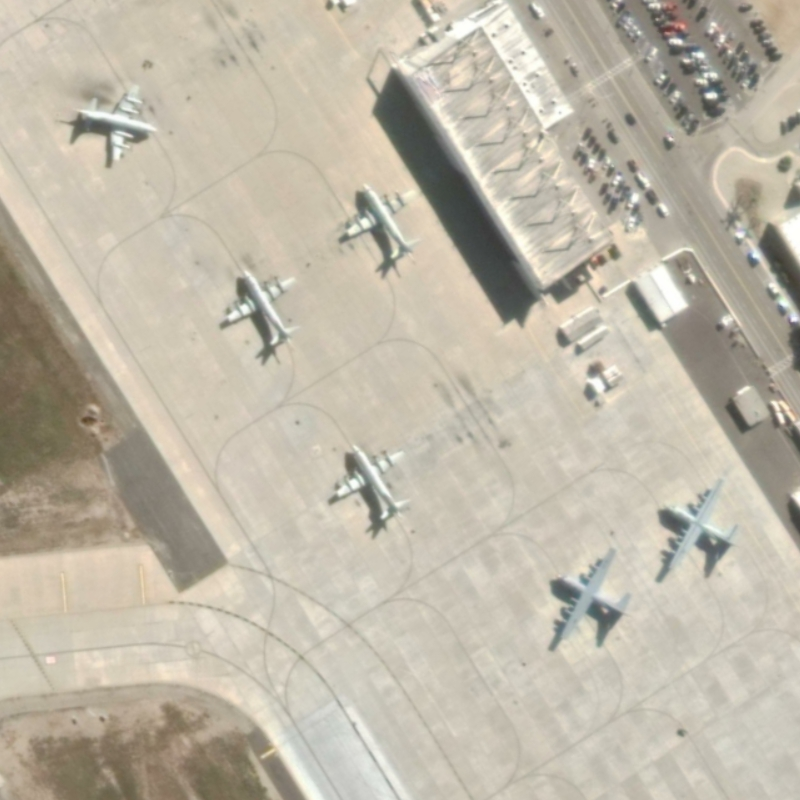A2: (653, 473, 745, 590), (541, 545, 635, 655)
A9: (211, 259, 310, 356), (339, 175, 429, 275), (324, 438, 419, 531), (71, 78, 160, 173)
